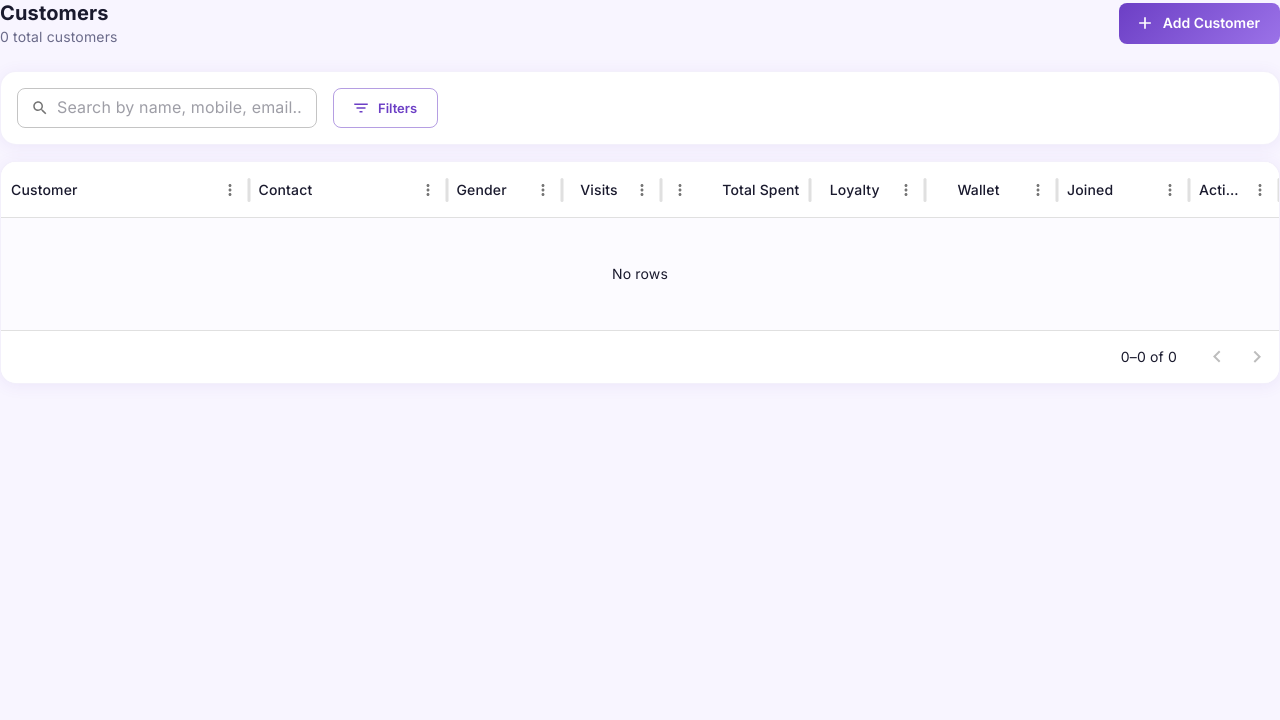
Test case: CustomersPage – Add Customer dialog › opens the Add Customer dialog on button click
What coordinates should you click on to do the following:
click the button "Add Customer"
I would click on:
 (1199, 23)
Its box is 1119,3 -> 1279,44.
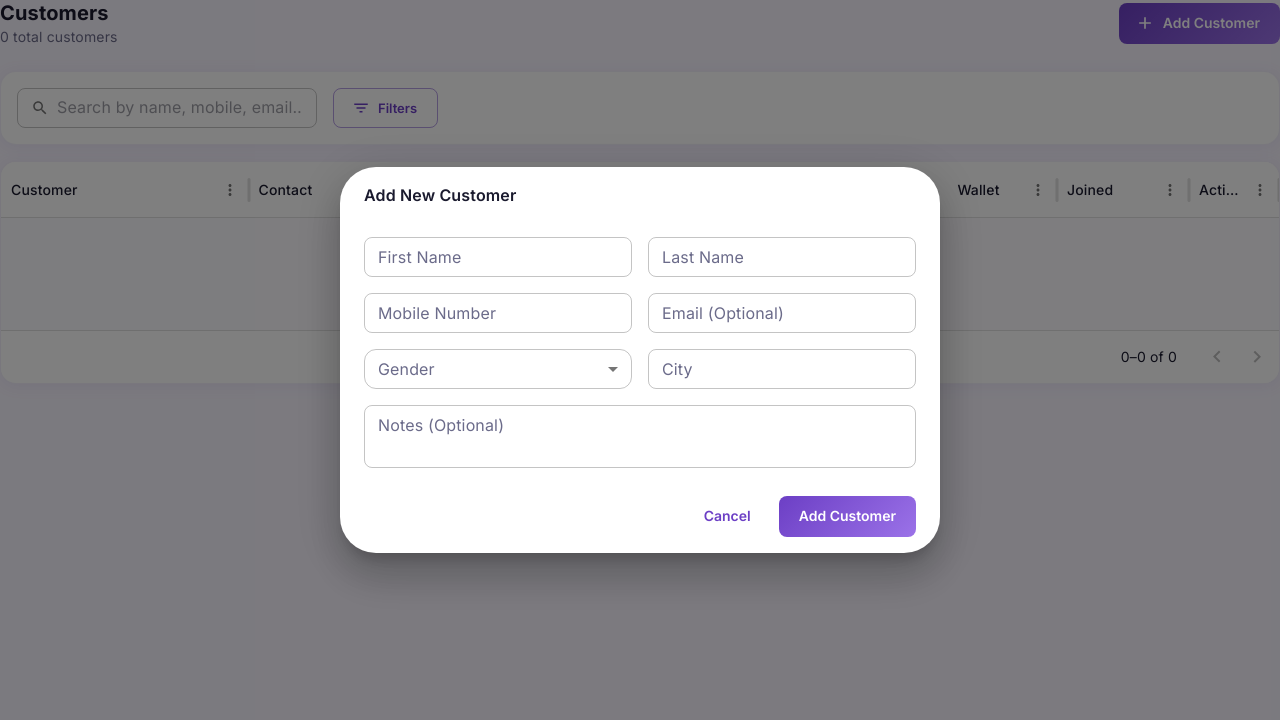
Result: the dialog is shown at 340,168 -> 940,553
Result: the heading "Add New Customer" is shown at 364,186 -> 516,206
